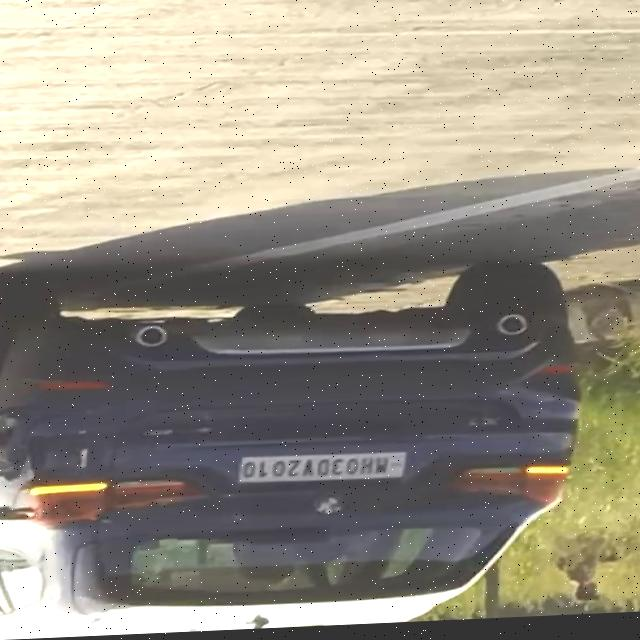plate: (235, 451, 410, 490)
